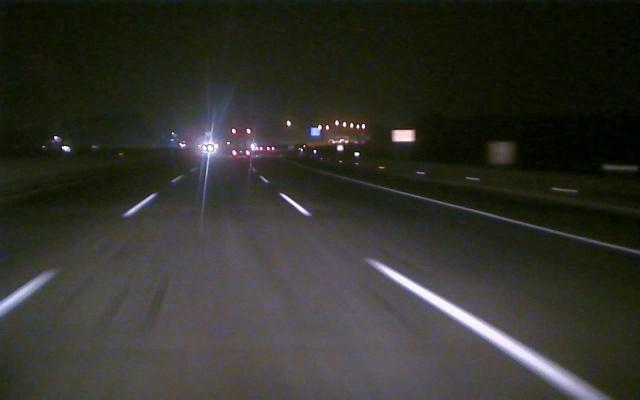lane: (283, 196, 607, 397), (1, 195, 154, 316), (392, 188, 640, 255)
